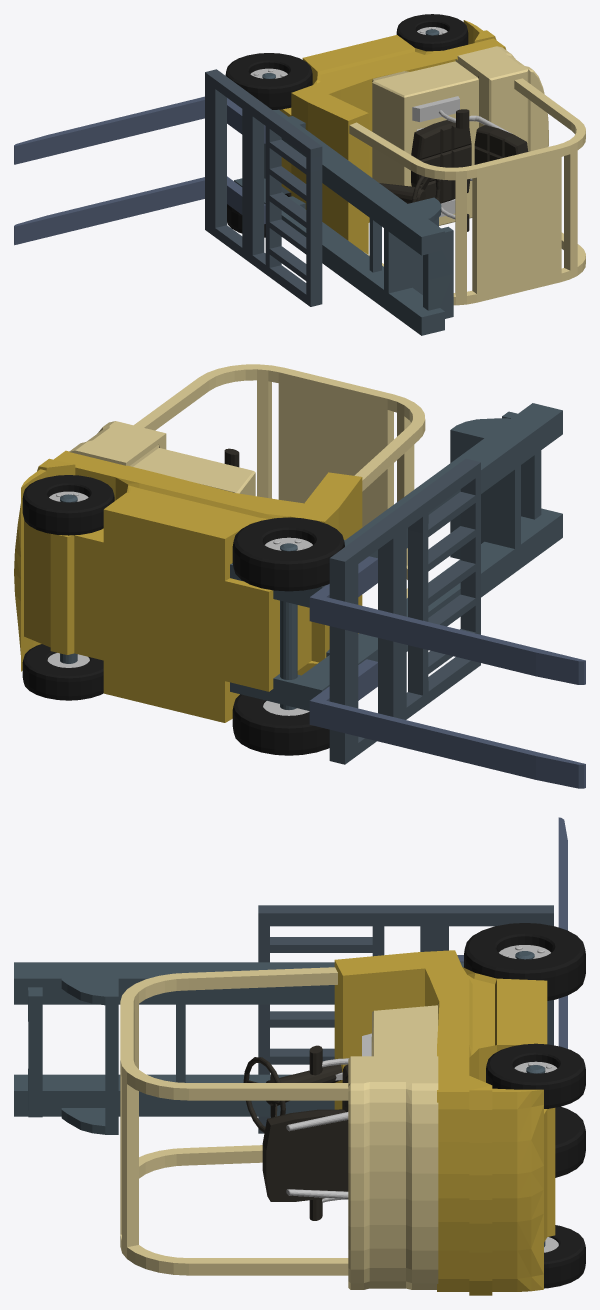
File: forklift.FBX
3 views of the same model, one above another, from view 1: azimuth 30°, elevation 25°; view 2: azimuth 150°, elevation 25°; view 3: azimuth 270°, elevation 25° (orthographic). The views are drawn at different scales.
Visible parts, largest first — view 1: geel2, metaal1, metaal2, geel1, vorken, zitting, banden, metaal3; view 2: geel1, geel2, metaal1, metaal2, banden, vorken, metaal3; view 3: geel2, geel1, metaal2, banden, metaal1, zitting, metaal3, vorken.
Part boxes in pixels (x1,y1,x2,y2): geel2: (349,46,585,305); metaal1: (205,69,322,306); metaal2: (234,29,453,335); geel1: (280,20,506,254); vorken: (14,96,265,245); zitting: (372,76,528,231); banden: (225,14,468,237); metaal3: (250,27,519,219); geel1: (14,450,362,722); geel2: (69,364,425,598); metaal1: (329,458,480,764); metaal2: (60,403,562,710); banden: (22,475,344,755); vorken: (309,556,585,788); metaal3: (47,491,312,715); geel2: (120,967,438,1289); geel1: (334,950,555,1295); metaal2: (14,951,545,1246); banden: (464,923,585,1288); metaal1: (258,905,553,1133); zitting: (243,1003,438,1220); metaal3: (286,945,558,1252); vorken: (457,817,567,1048).
Size of the model in its own units: 6.2 by 2.03 by 4.77.
